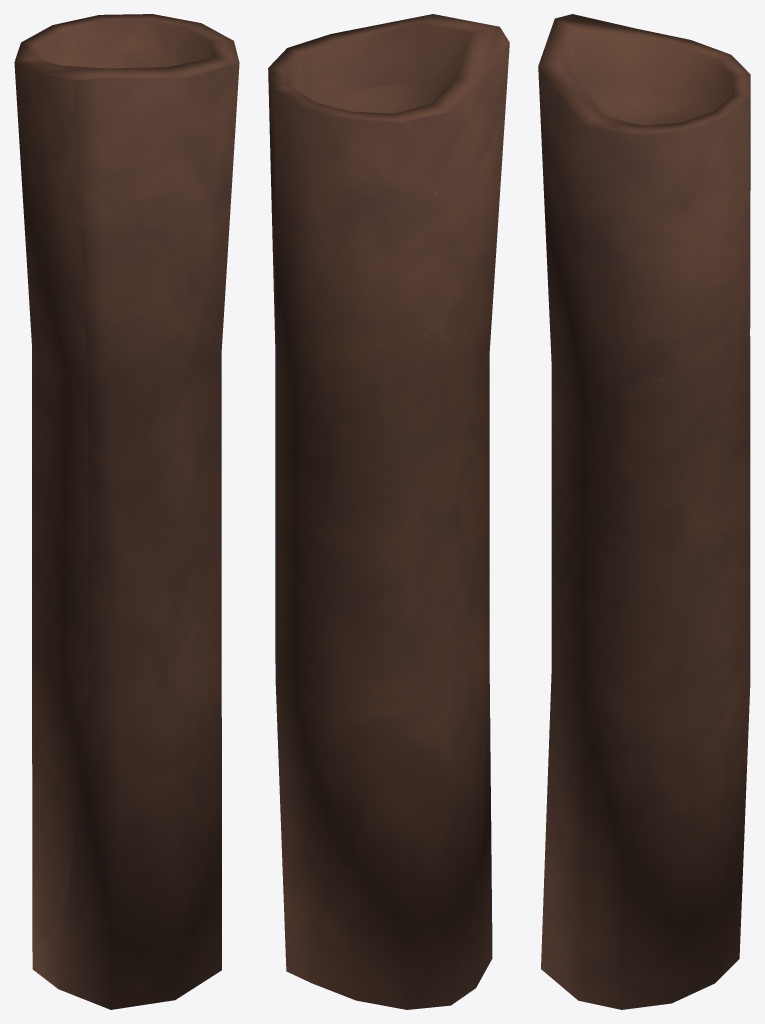
File: Skin_Roll_1.fbx
3 renders of one model, left to right at view 1: azimuth 30°, elevation 25°; view 2: azimuth 150°, elevation 25°; view 3: azimuth 270°, elevation 25°, orthographic.
Visible parts, largest first — view 1: Skin_Roll_2; view 2: Skin_Roll_2; view 3: Skin_Roll_2.
Boxes of the visible parts, left/top/right/bottom form: Skin_Roll_2: left=14, top=14, right=239, bottom=1009; Skin_Roll_2: left=268, top=14, right=509, bottom=1009; Skin_Roll_2: left=538, top=14, right=750, bottom=1009.
Size of the model in its own units: 0.2309 by 1.06 by 0.2233.
